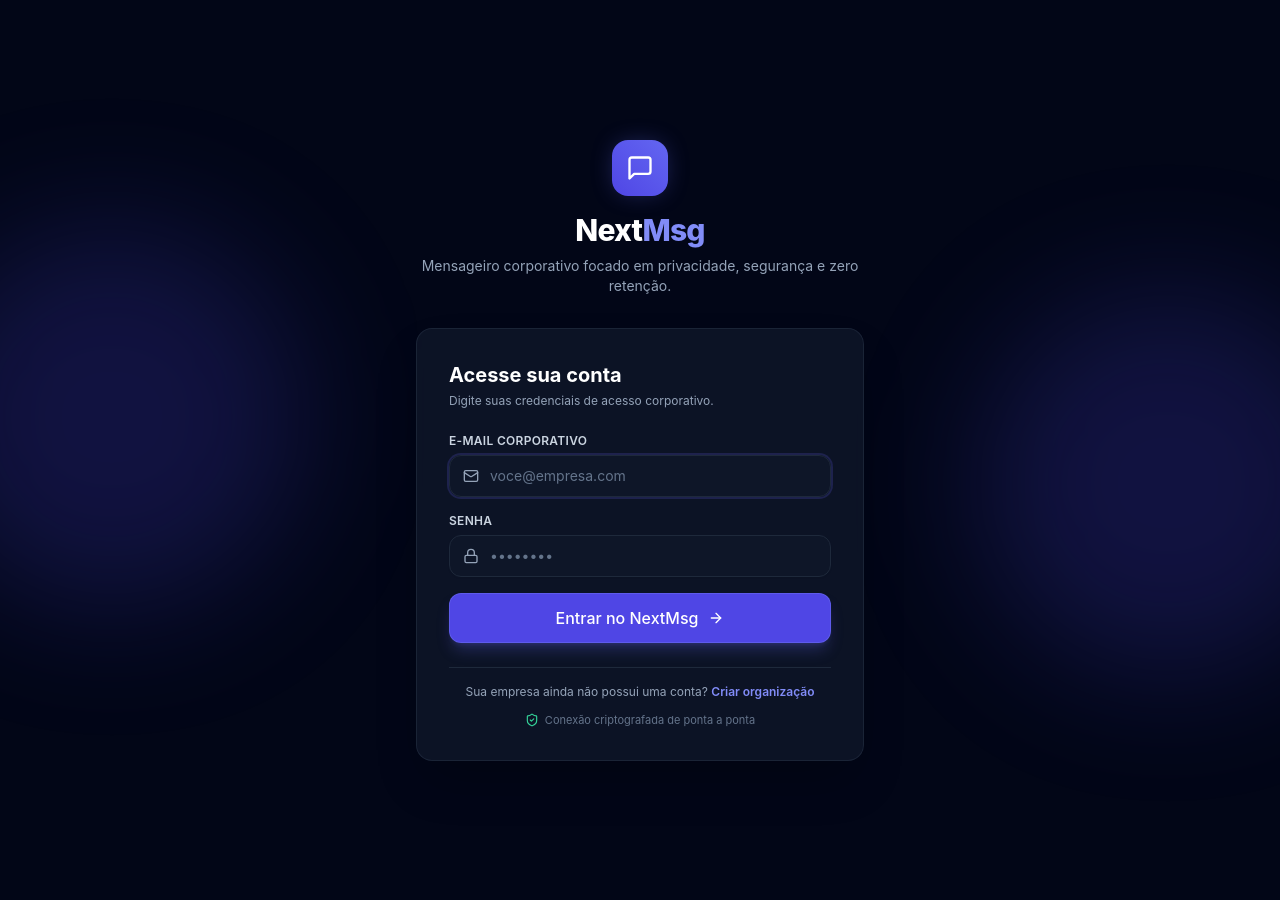
Scenario: Auth Pages & Flows (T-12) › LoginPage › renders login fields and shows validation error on empty submit
Expected: the heading "Acesse sua conta" is shown, x1=449 y1=362 x2=622 y2=386
Expected: the field with placeholder "voce@empresa.com" is shown, x1=449 y1=454 x2=831 y2=496
Click the button "Entrar no NextMsg" at (640, 618), box x1=449 y1=592 x2=831 y2=642
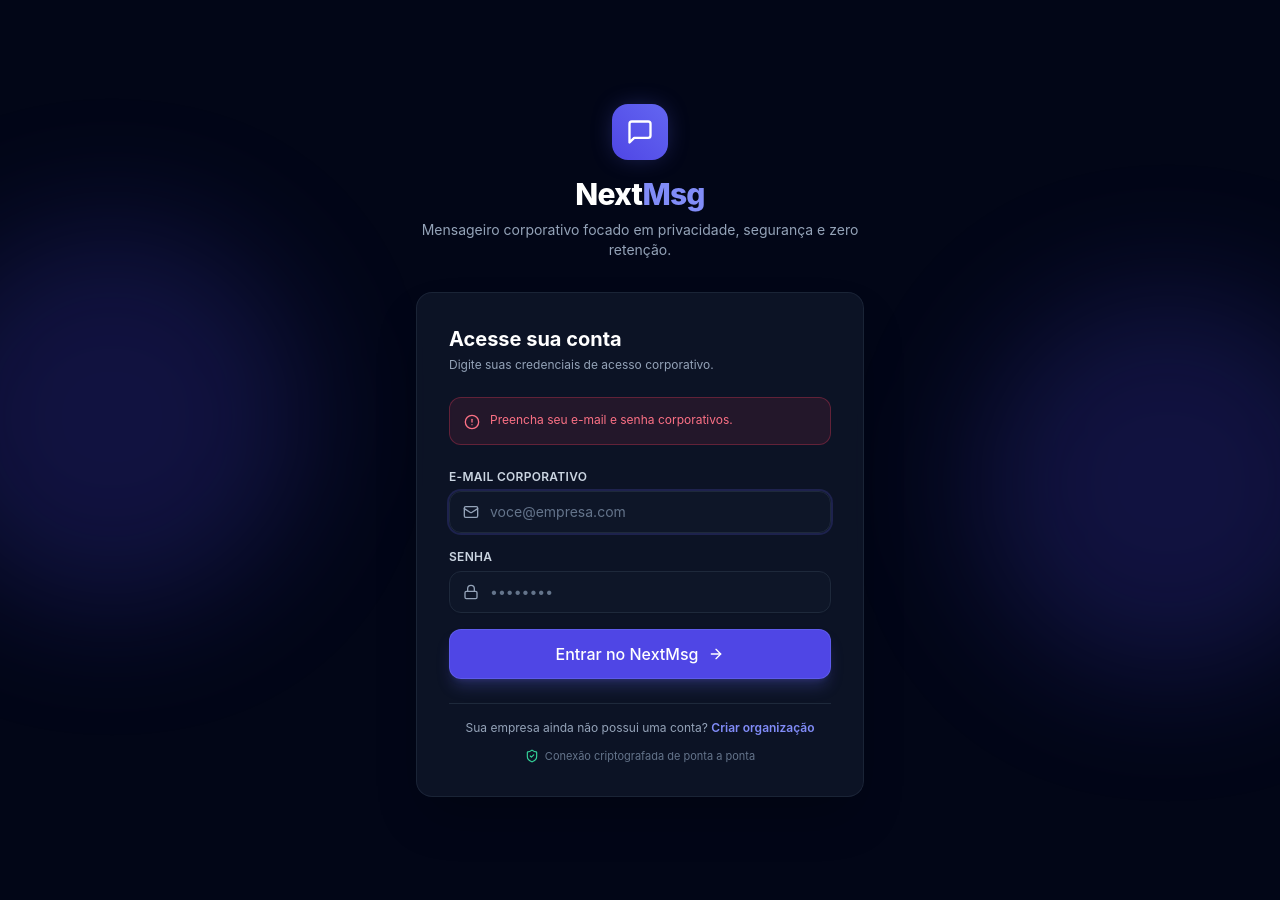
Now the text "Preencha seu e-mail e senha corporativos." is shown, box x1=490 y1=412 x2=733 y2=428
